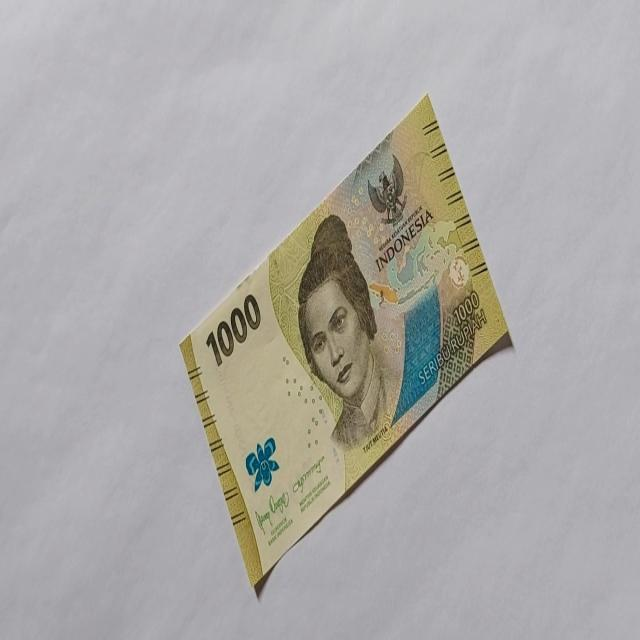seribu rupiah kertas: (178, 91, 514, 590)
